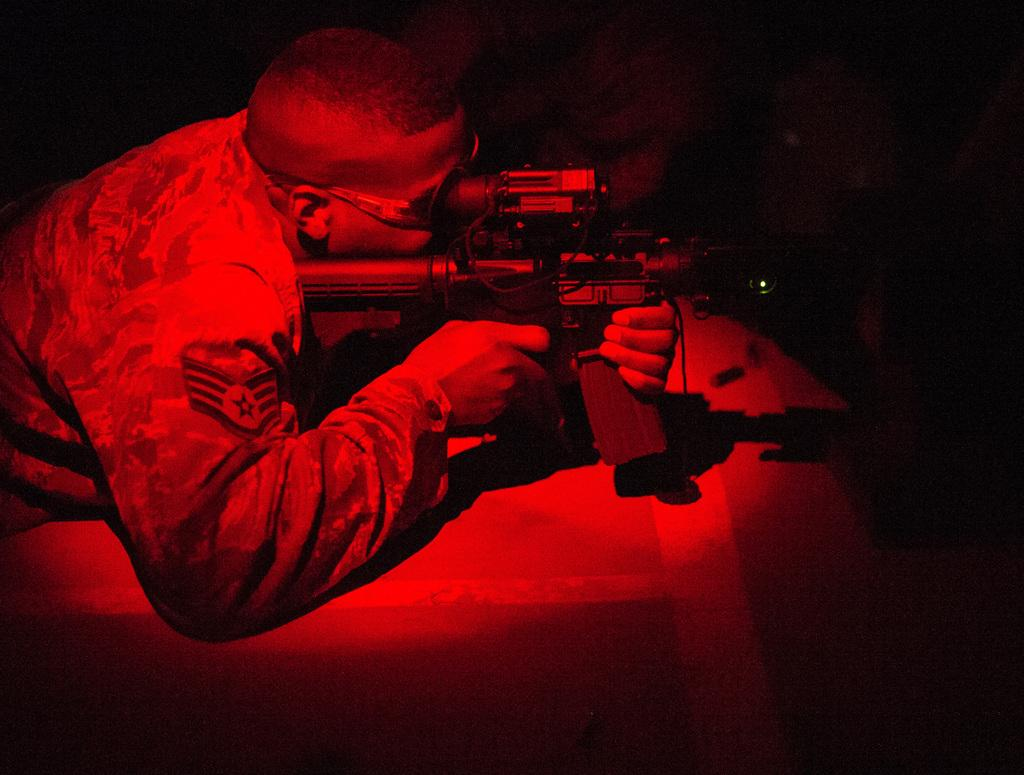Rifle: (177, 179, 782, 467)
